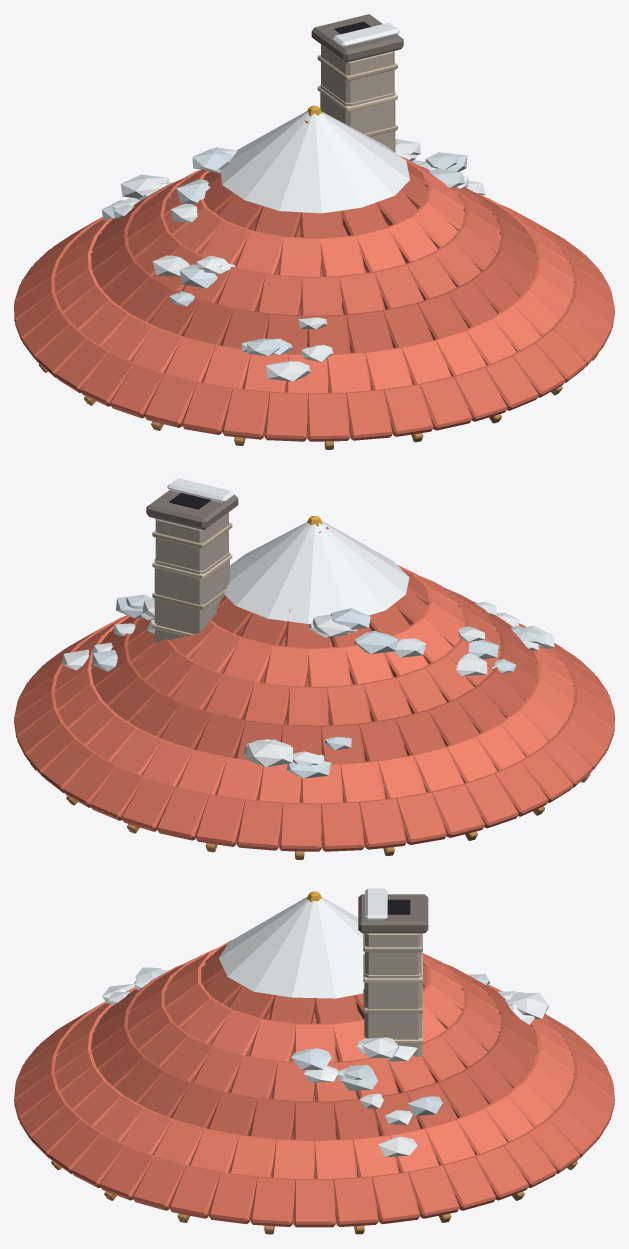
The model's file is mod_roof_round_cottage.glb.
3 views of the same model, one above another, from view 1: azimuth 30°, elevation 25°; view 2: azimuth 150°, elevation 25°; view 3: azimuth 270°, elevation 25° (orthographic).
Parts seen in each view (by area): view 1: mod_roof_round_cottage; view 2: mod_roof_round_cottage; view 3: mod_roof_round_cottage.
Part boxes in pixels (x1,y1,x2,y2): mod_roof_round_cottage: (14,14,614,449); mod_roof_round_cottage: (14,478,614,859); mod_roof_round_cottage: (14,888,614,1234).
Bounding box in the file's own units: 5.34 × 2.48 × 5.34.
